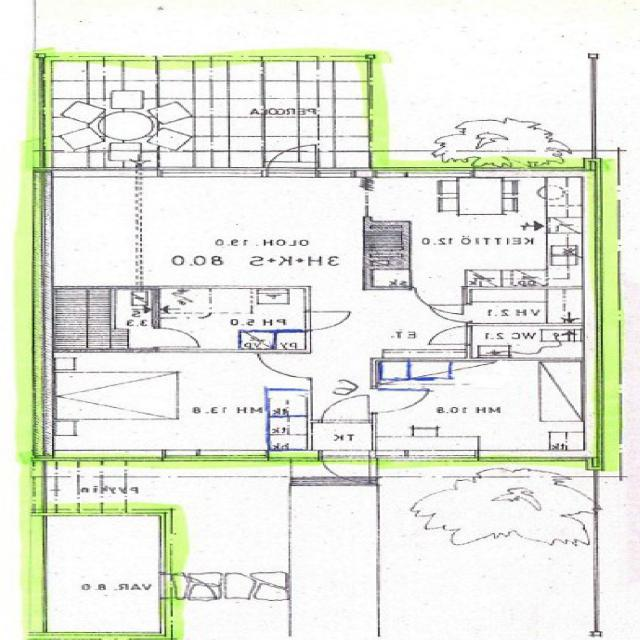door: (267, 144, 315, 178), (322, 451, 368, 486), (370, 389, 424, 413), (416, 286, 462, 314), (160, 575, 212, 599), (260, 354, 312, 378), (322, 398, 367, 424), (153, 328, 197, 348), (430, 327, 472, 345), (306, 312, 346, 330), (432, 305, 472, 322)
